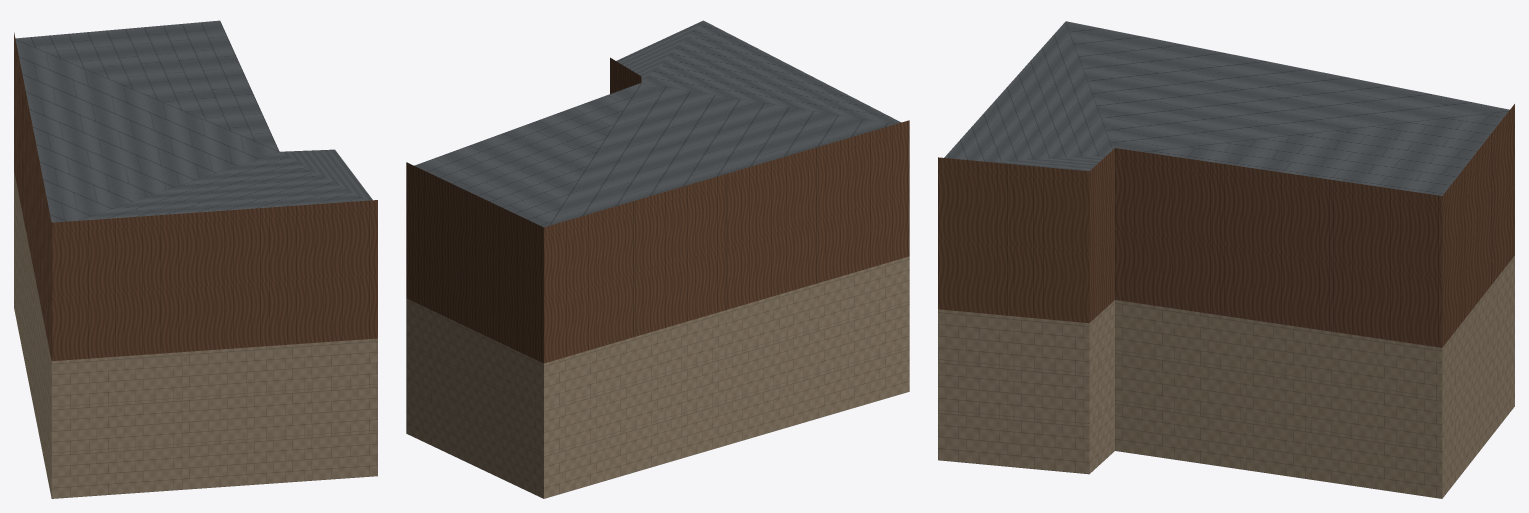
The model's file is bld_c-16_-5_708.gltf.
3 views of the same model, side by side, from view 1: azimuth 30°, elevation 25°; view 2: azimuth 150°, elevation 25°; view 3: azimuth 270°, elevation 25° (orthographic). The views are drawn at different scales.
Visible parts, largest first — view 1: bld_c-16_-5_708; view 2: bld_c-16_-5_708; view 3: bld_c-16_-5_708.
Boxes of the visible parts, x1=… form: bld_c-16_-5_708: x1=14, y1=20, x2=377, y2=498; bld_c-16_-5_708: x1=406, y1=20, x2=909, y2=498; bld_c-16_-5_708: x1=938, y1=21, x2=1514, y2=498.
Bounding box in the file's own units: 12.99 × 10.08 × 17.4.
Materials: 4 (4 with a texture image).
